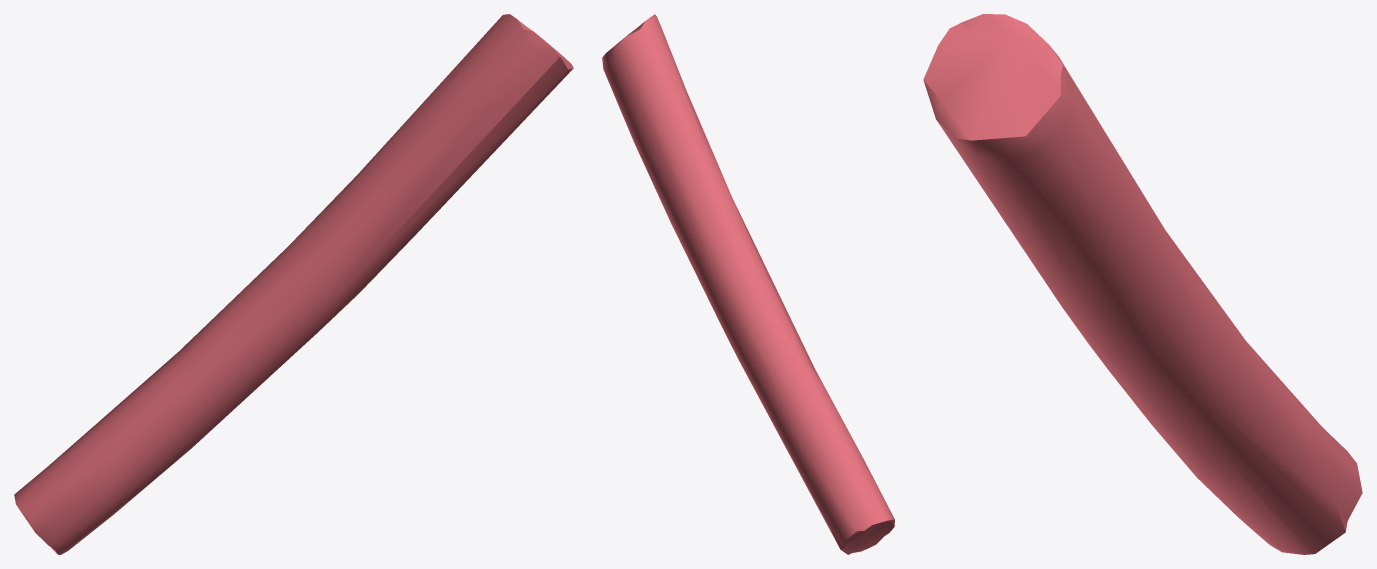
File: fma15408_fj3440.glb
3 renders of one model, left to right at view 1: azimuth 30°, elevation 25°; view 2: azimuth 150°, elevation 25°; view 3: azimuth 270°, elevation 25°, orthographic. The views are drawn at different scales.
Visible parts, largest first — view 1: FMA15408_FJ3440; view 2: FMA15408_FJ3440; view 3: FMA15408_FJ3440.
Part boxes in pixels (left/top/right/bottom): FMA15408_FJ3440: left=14, top=14, right=573, bottom=554; FMA15408_FJ3440: left=602, top=14, right=894, bottom=554; FMA15408_FJ3440: left=923, top=14, right=1362, bottom=554.
Bounding box in the file's own units: 0.0222 × 0.0243 × 0.0119.
